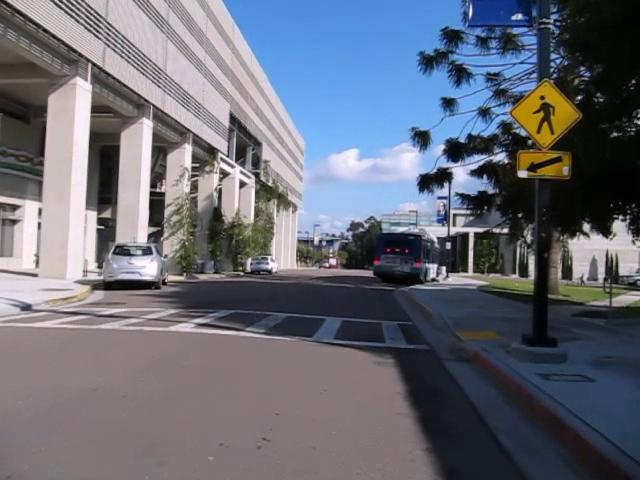pedestrianCrossing: (508, 77, 582, 151)
